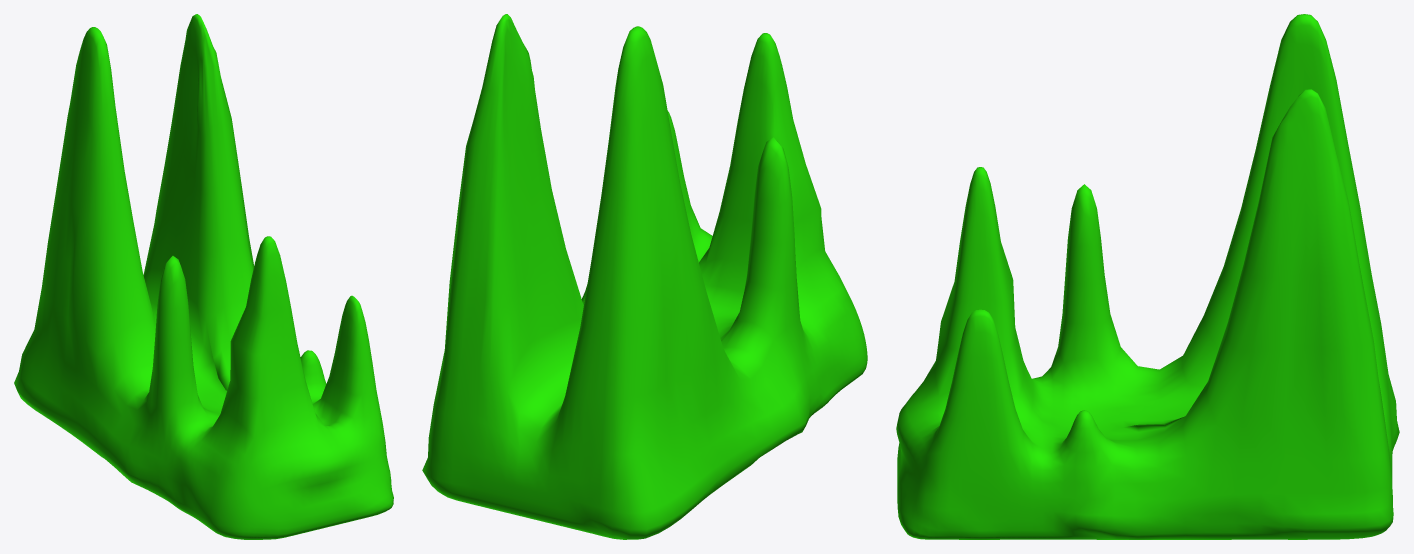
File: bigspikes.fbx
3 renders of one model, left to right at view 1: azimuth 30°, elevation 25°; view 2: azimuth 150°, elevation 25°; view 3: azimuth 270°, elevation 25°, orthographic. The views are drawn at different scales.
Parts seen in each view (by area): view 1: Cube.001; view 2: Cube.001; view 3: Cube.001.
Part boxes in pixels (box(x1,y1,x2,y2)): Cube.001: box(14, 14, 393, 539); Cube.001: box(422, 14, 867, 539); Cube.001: box(896, 14, 1399, 539).
Size of the model in its own units: 613 by 1142 by 1147.
